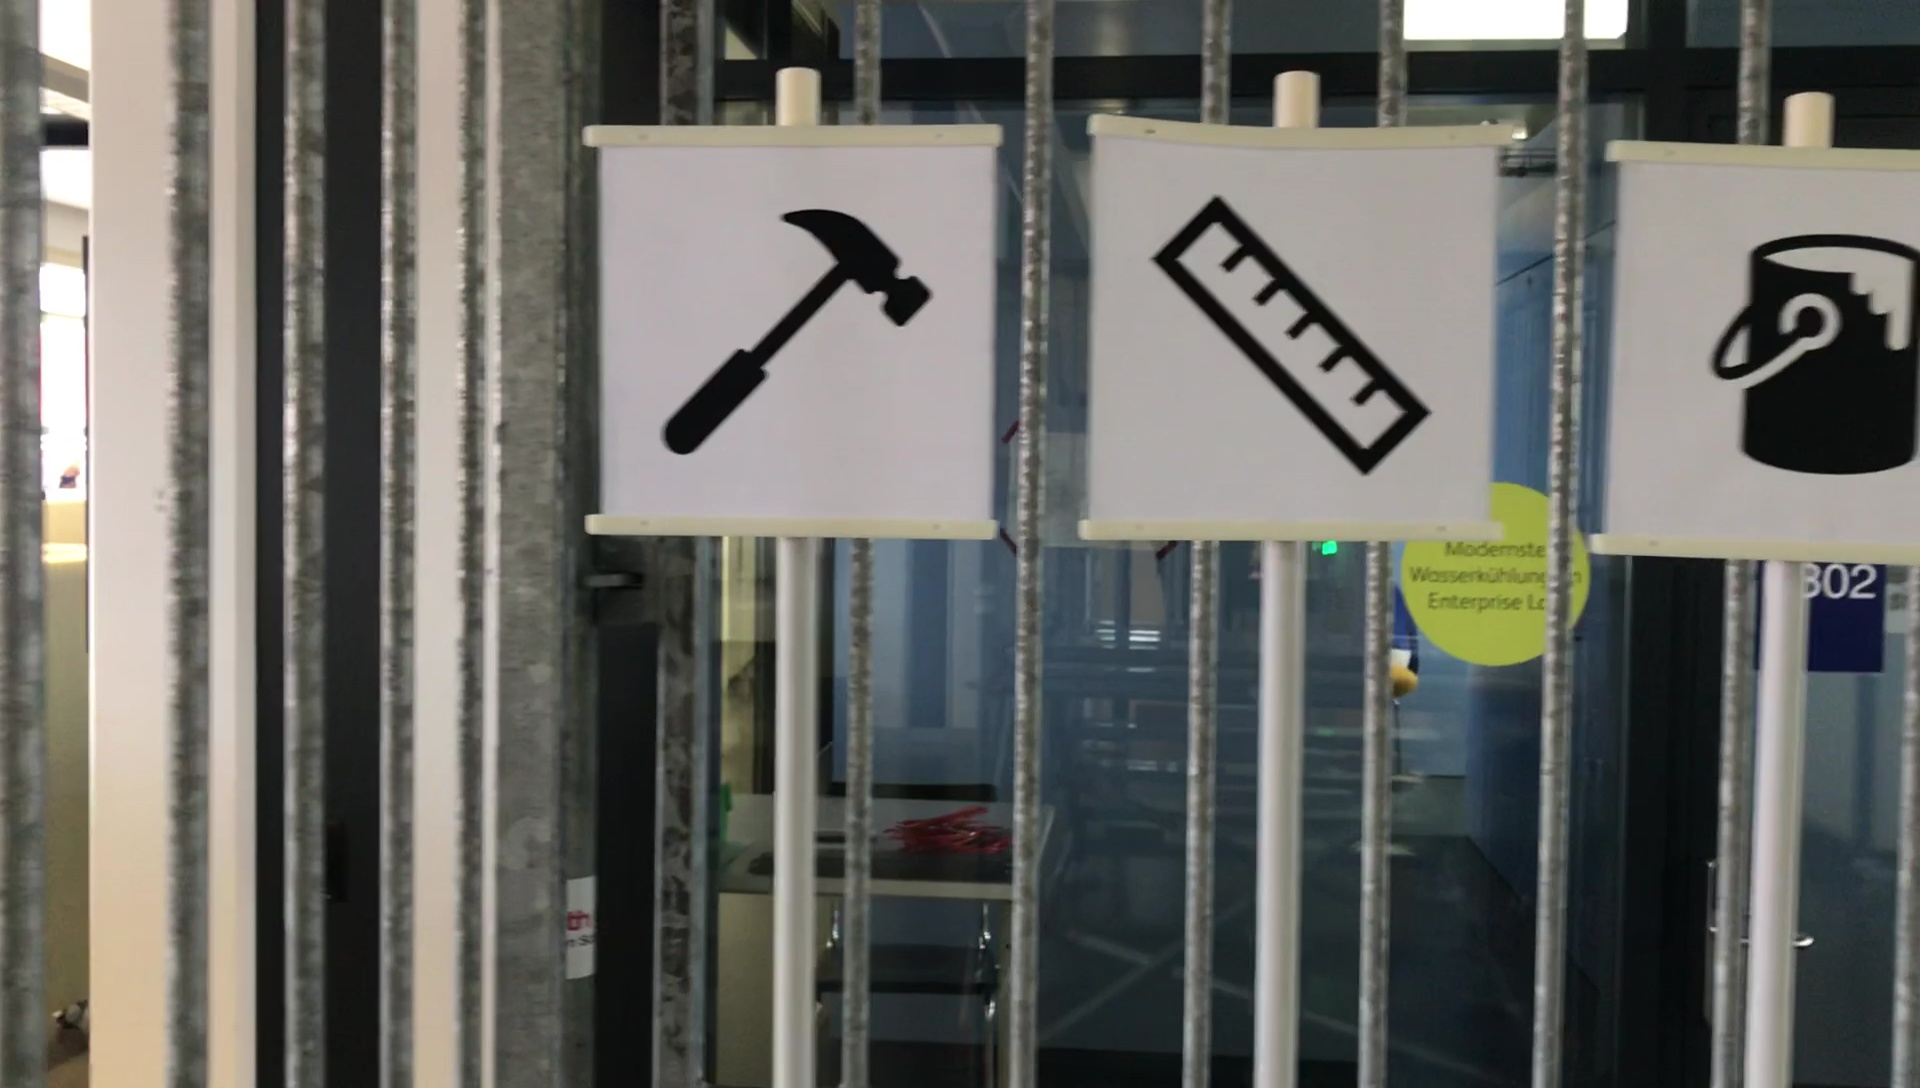bucket: (1706, 218, 1920, 477)
hammer: (659, 200, 940, 467)
ruler: (1149, 191, 1447, 484)
